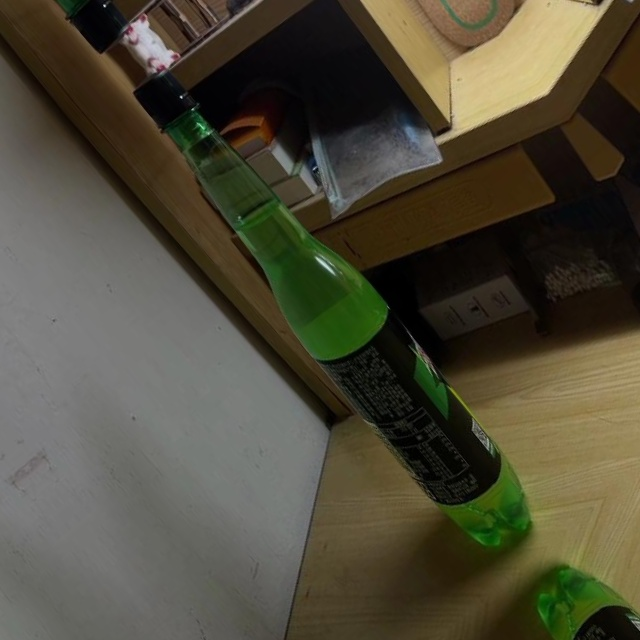Mountain-Dew: (106, 52, 556, 564)
